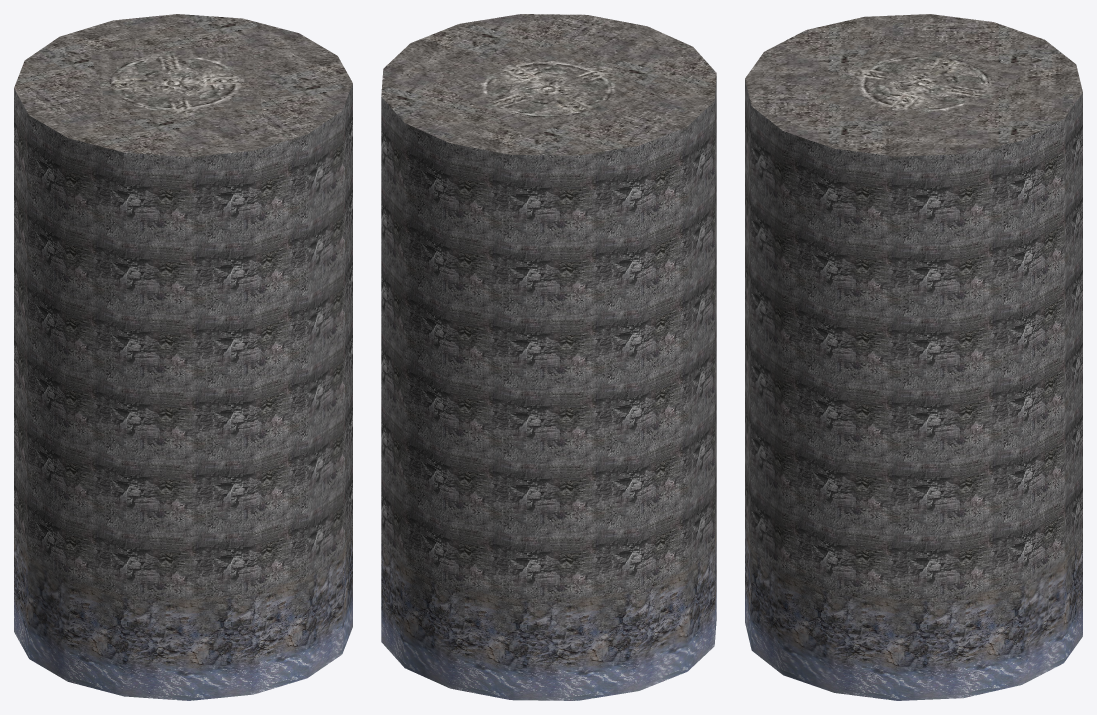
3 views of the same model, side by side, from view 1: azimuth 30°, elevation 25°; view 2: azimuth 150°, elevation 25°; view 3: azimuth 270°, elevation 25° (orthographic).
Parts seen in each view (by area): view 1: WZ3; view 2: WZ3; view 3: WZ3.
Part boxes in pixels (x1,y1,x2,y2): WZ3: (14,14,352,700); WZ3: (381,14,716,700); WZ3: (745,14,1082,700).
Size of the model in its own units: 498 by 884 by 498.
